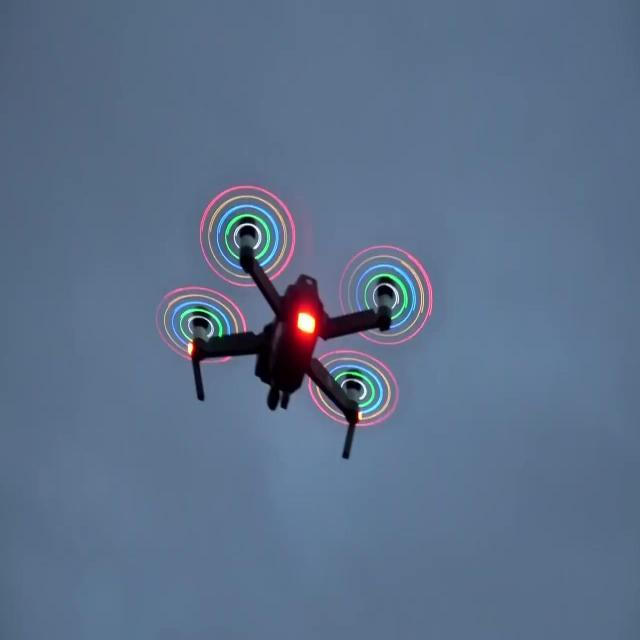drone: (153, 182, 435, 462)
